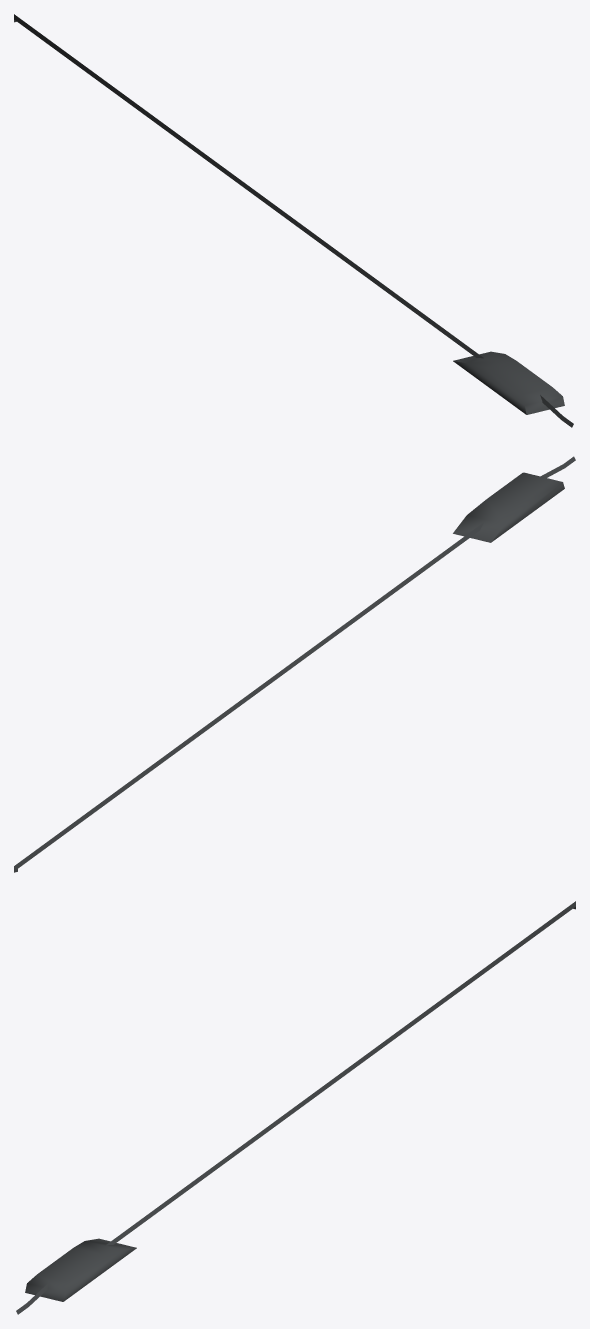
File: S300_BOJ_06.glb
3 renders of one model, top to bottom at view 1: azimuth 30°, elevation 25°; view 2: azimuth 150°, elevation 25°; view 3: azimuth 330°, elevation 25°, orthographic.
Visible parts, largest first — view 1: yane02; view 2: yane02; view 3: yane02.
Boxes of the visible parts, x1,y1,x2,y2 form: yane02: [14, 14, 573, 427]; yane02: [14, 456, 575, 872]; yane02: [16, 901, 575, 1314].
Bounding box in the file's own units: 1.69 × 0.5813 × 42.95.
Materials: 1 (1 with a texture image).
